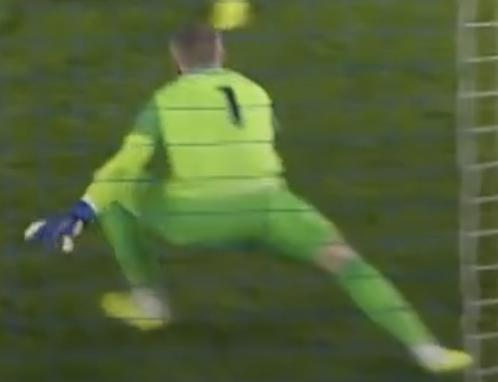goalkeeper: (13, 9, 498, 382)
